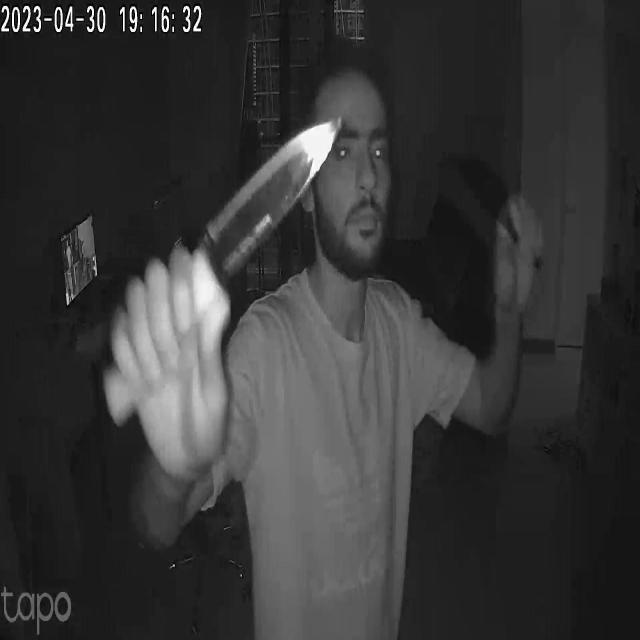Knife: (93, 114, 341, 432)
